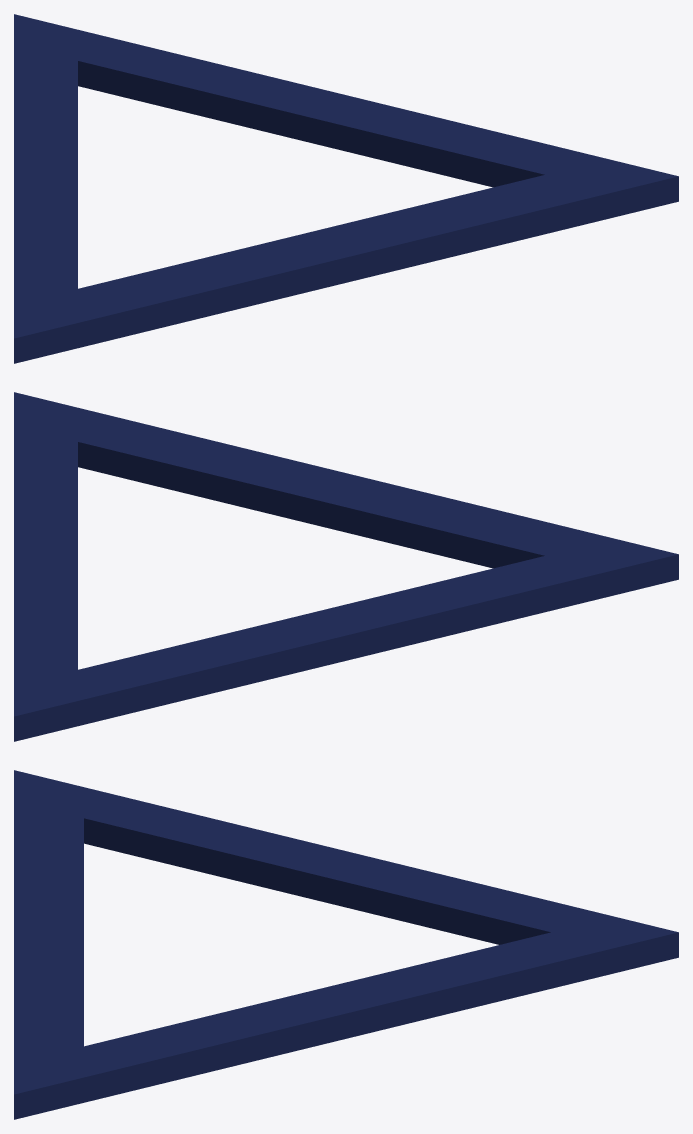
File: tileTriangle.glb
3 renders of one model, top to bottom at view 1: azimuth 30°, elevation 25°; view 2: azimuth 150°, elevation 25°; view 3: azimuth 270°, elevation 25°, orthographic.
Visible parts, largest first — view 1: TileTriangle; view 2: TileTriangle; view 3: TileTriangle.
Boxes of the visible parts, left/top/right/bottom form: TileTriangle: left=14, top=14, right=678, bottom=363; TileTriangle: left=14, top=392, right=678, bottom=741; TileTriangle: left=14, top=770, right=678, bottom=1119.
Size of the model in its own units: 0.8252 by 0.03 by 0.7146.
Materials: 1 (1 with a texture image).
